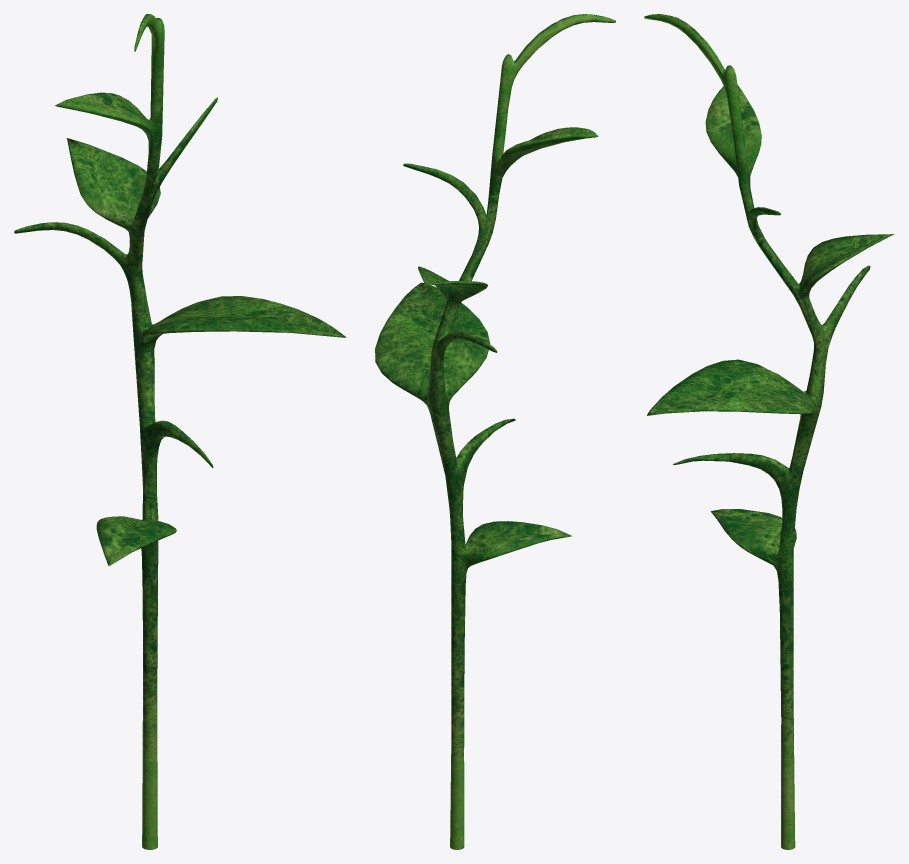
The model's file is PlantTomatoL.fbx.
3 views of the same model, side by side, from view 1: azimuth 30°, elevation 25°; view 2: azimuth 150°, elevation 25°; view 3: azimuth 270°, elevation 25° (orthographic). The views are drawn at different scales.
Visible parts, largest first — view 1: PlantTomatoL; view 2: PlantTomatoL; view 3: PlantTomatoL.
Part boxes in pixels (x1,y1,x2,y2): PlantTomatoL: (14, 14, 346, 849); PlantTomatoL: (375, 14, 615, 849); PlantTomatoL: (644, 14, 894, 849).
Bounding box in the file's own units: 21.51 × 75.14 × 21.35.
